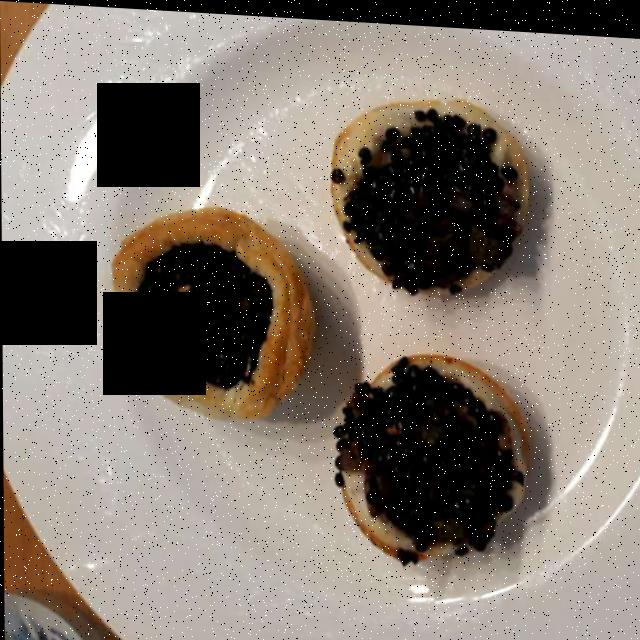lentils: (134, 108, 529, 549)
pastry-flaky: (105, 90, 533, 568)
